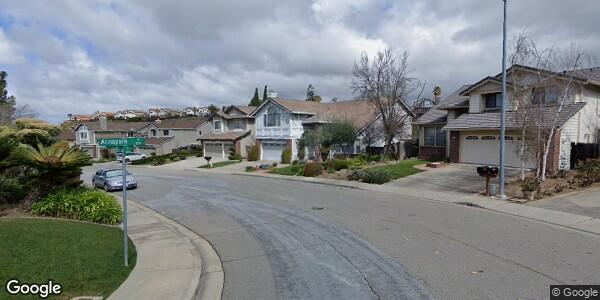Steel_Pole: (496, 1, 509, 199)
